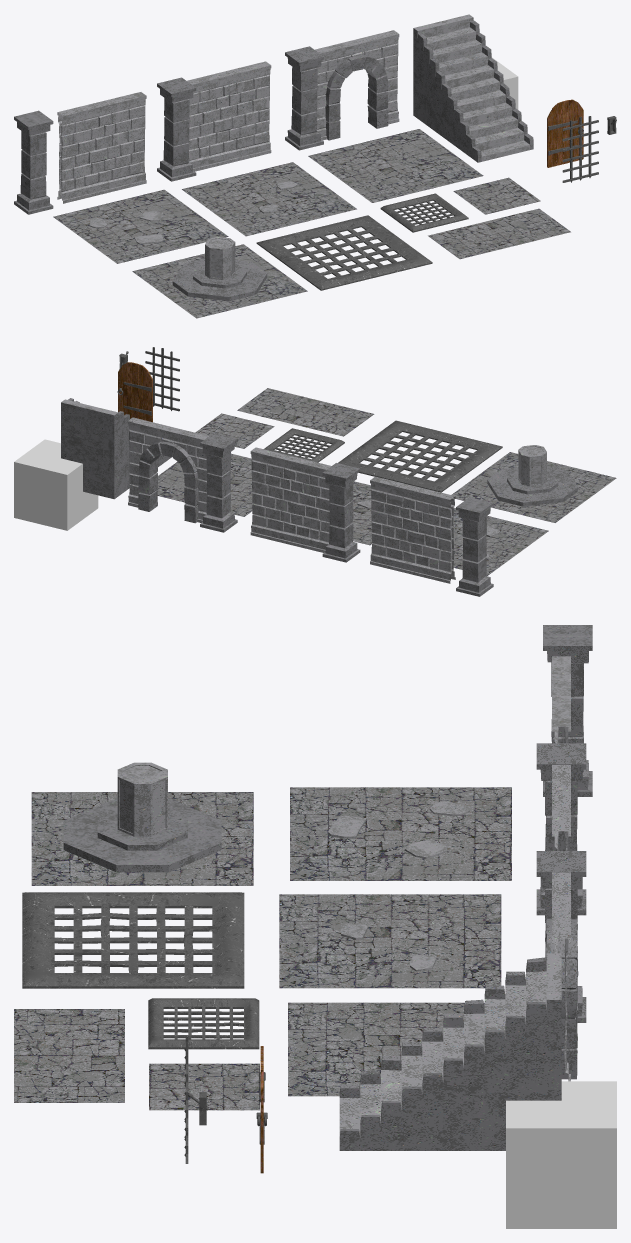
File: ModularDungeonFree.glb
3 views of the same model, one above another, from view 1: azimuth 30°, elevation 25°; view 2: azimuth 150°, elevation 25°; view 3: azimuth 270°, elevation 25° (orthographic). The views are drawn at different scales.
Parts seen in each view (by area): view 1: Stairs, Wall, Doorway, BaseWall, Altar, Floor1, Floor2, Floor3, Grille, Half_Floor1, BasePillar, Door (+4 smaller); view 2: Wall, Doorway, BaseWall, Altar, Grille, Stairs, Cube, Half_Floor1, BasePillar, Floor3, Floor1, Door (+4 smaller); view 3: Stairs, Altar, Floor2, Floor3, Grille, Cube, Floor1, Half_Floor1, Doorway, GrilleSmall, Quarter_floor, Wall (+2 smaller).
Part boxes in pixels (x1,y1,x2,y2): Stairs: (413, 14, 533, 162); Wall: (157, 61, 271, 181); Doorway: (285, 30, 399, 150); BaseWall: (57, 92, 146, 203); Altar: (132, 236, 307, 318); Floor1: (308, 129, 483, 202); Floor2: (182, 162, 356, 236); Floor3: (53, 189, 228, 263); Grille: (256, 215, 432, 290); Half_Floor1: (428, 208, 570, 259); BasePillar: (14, 110, 53, 214); Door: (547, 99, 583, 167); Wall: (250, 447, 360, 562); Doorway: (128, 417, 237, 532); BaseWall: (370, 476, 455, 583); Altar: (451, 445, 616, 522); Grille: (338, 420, 502, 492); Stairs: (61, 398, 171, 499); Cube: (14, 439, 98, 530); Half_Floor1: (237, 388, 374, 436); BasePillar: (456, 497, 493, 596); Floor3: (453, 507, 548, 575); Floor1: (157, 453, 252, 516); Door: (117, 362, 152, 422); Stairs: (339, 953, 561, 1150); Altar: (31, 762, 253, 885); Floor2: (279, 894, 501, 988); Floor3: (290, 787, 511, 880); Grille: (22, 892, 244, 988); Cube: (506, 1081, 616, 1228); Floor1: (288, 1002, 484, 1096); Half_Floor1: (14, 1009, 124, 1102); Doorway: (536, 851, 586, 1081); GrilleSmall: (148, 998, 259, 1049); Quarter_floor: (149, 1063, 259, 1110); Wall: (536, 743, 586, 915).
Size of the model in its own units: 17.5 by 4 by 10.87.
Materials: 6 (5 with a texture image).
